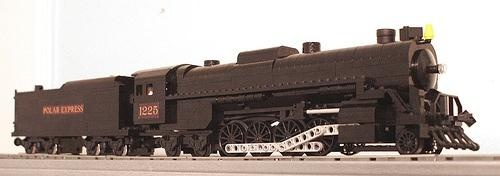train: (11, 21, 482, 161)
